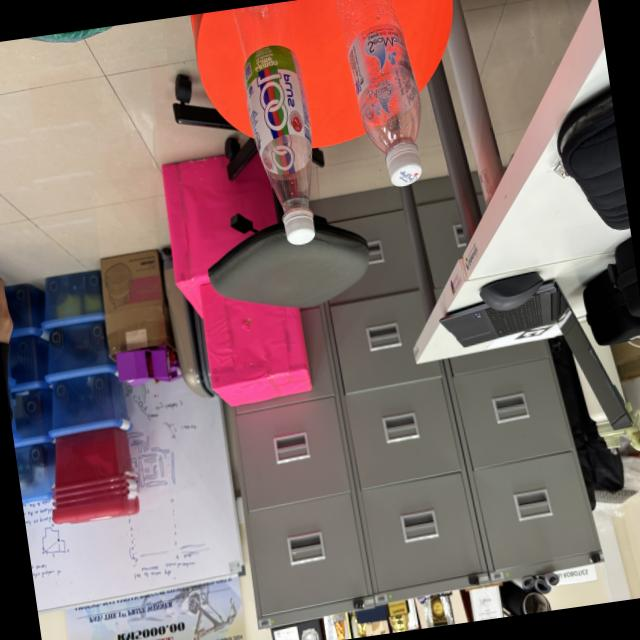plastic_bottle: (227, 0, 335, 257), (329, 0, 443, 199)
